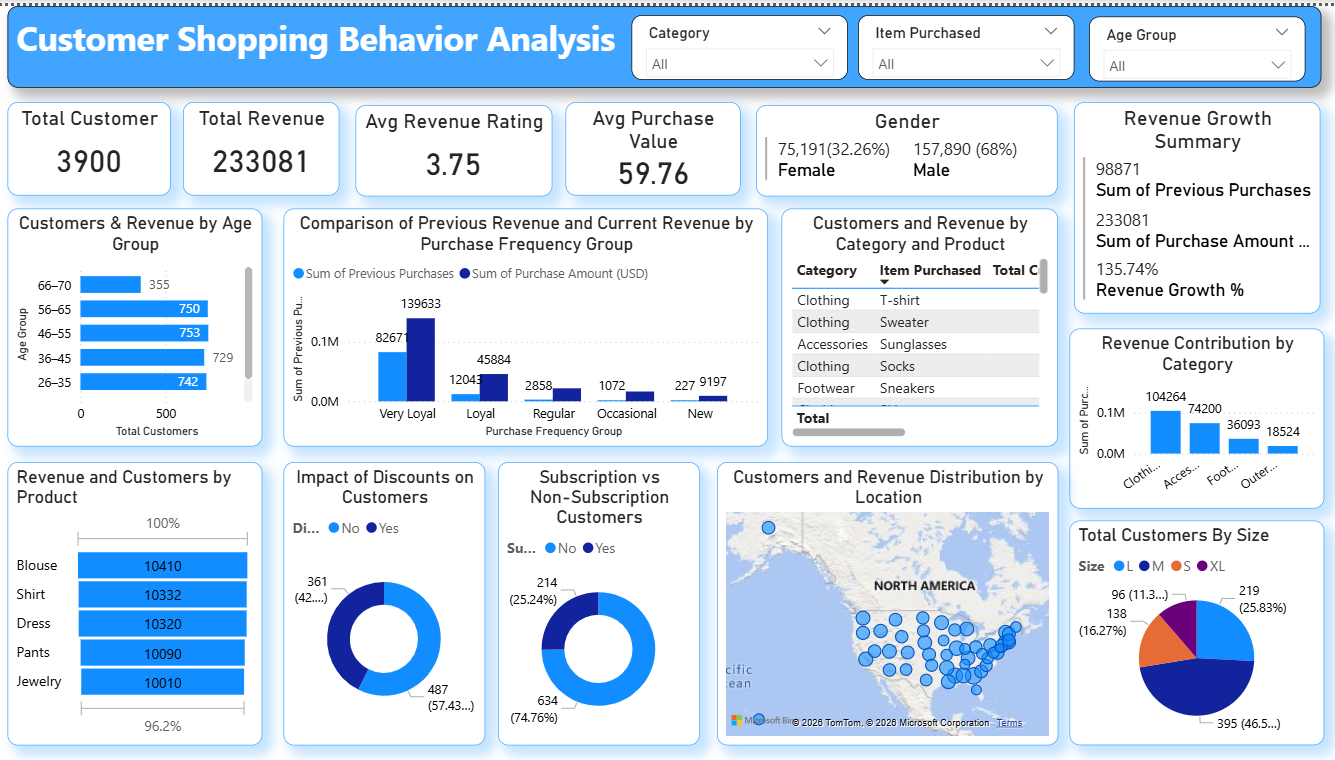

This screenshot's page, from the dashboard's own definition file:
{"tool":"powerbi","page":{"name":"Page 1","canvas":[1280,720],"ordinal":0},"visuals":[{"type":"textbox","box":[9.5,0,1255,77.9],"z":0},{"type":"card","title":"Total Customer","fields":{"Values":["customer_shopping_behavior.Total Customers"]},"box":[9.5,92.3,155.9,89.1],"z":1000},{"type":"card","title":"Total Revenue","fields":{"Values":["Sum(customer_shopping_behavior.Purchase Amount (USD))"]},"box":[178.1,92.3,149.5,89.1],"z":2000},{"type":"card","title":"Avg Revenue Rating","fields":{"Values":["customer_shopping_behavior.Avg Review Rating"]},"box":[342,93.8,187.7,87.5],"z":3000},{"type":"card","title":"Avg Purchase Value","fields":{"Values":["customer_shopping_behavior.Average Purchase Value"]},"box":[542.4,92.3,167,89.1],"z":4000},{"type":"multiRowCard","title":"Gender","fields":{"Values":["customer_shopping_behavior.Female","customer_shopping_behavior.Male"]},"box":[725.3,93.8,287.9,87.5],"z":5000},{"type":"multiRowCard","title":"Revenue Growth Summary","fields":{"Values":["Sum(customer_shopping_behavior.Previous Purchases)","Sum(customer_shopping_behavior.Purchase Amount (USD))","customer_shopping_behavior.Revenue Growth %"]},"box":[1029.1,92.3,235.4,202],"z":6000},{"type":"barChart","title":"Customers & Revenue by Age Group","fields":{"Category":["customer_shopping_behavior.Age Group"],"Y":["customer_shopping_behavior.Total Customers"]},"box":[9.5,194.1,243.4,227.5],"z":7000},{"type":"clusteredColumnChart","title":"Comparison of Previous Revenue and Current Revenue by Purchase Frequency Group","fields":{"Category":["customer_shopping_behavior.Purchase Frequency Group"],"Y":["Sum(customer_shopping_behavior.Previous Purchases)","Sum(customer_shopping_behavior.Purchase Amount (USD))"]},"box":[273.6,194.1,462.9,227.5],"z":8000},{"type":"tableEx","title":"Customers and Revenue by Category and Product","fields":{"Values":["customer_shopping_behavior.Category","customer_shopping_behavior.Item Purchased","customer_shopping_behavior.Total Customers","Sum(customer_shopping_behavior.Purchase Amount (USD))"]},"box":[749.2,194.1,264,227.5],"z":9000},{"type":"columnChart","title":"Revenue Contribution by Category","fields":{"Category":["customer_shopping_behavior.Category"],"Y":["Sum(customer_shopping_behavior.Purchase Amount (USD))"]},"box":[1024.4,308.6,243.4,171.8],"z":10000},{"type":"funnel","title":"Revenue and Customers by Product","fields":{"Category":["customer_shopping_behavior.Item Purchased"],"Y":["Sum(customer_shopping_behavior.Purchase Amount (USD))"]},"box":[9.5,435.8,243.4,270.4],"z":11000},{"type":"donutChart","title":"Impact of Discounts on Customers","fields":{"Y":["customer_shopping_behavior.Total Customers"],"Category":["customer_shopping_behavior.Discount Applied"]},"box":[273.6,435.8,192.5,270.4],"z":12000},{"type":"donutChart","title":"Subscription vs Non-Subscription Customers","fields":{"Category":["customer_shopping_behavior.Subscription Status"],"Y":["customer_shopping_behavior.Total Customers"]},"box":[478.8,435.8,192.5,270.4],"z":13000},{"type":"map","title":"Customers and Revenue Distribution by Location","fields":{"Size":["Sum(customer_shopping_behavior.Purchase Amount (USD))"],"Category":["customer_shopping_behavior.Location"]},"box":[687.1,435.8,326.1,270.4],"z":14000},{"type":"pieChart","title":"Total Customers By Size","fields":{"Series":["customer_shopping_behavior.Size"],"Y":["customer_shopping_behavior.Total Customers"]},"box":[1024.4,491.5,243.4,214.7],"z":15000},{"type":"slicer","fields":{"Values":["customer_shopping_behavior.Category"]},"box":[606,8,206.8,62],"z":16000},{"type":"slicer","fields":{"Values":["customer_shopping_behavior.Item Purchased"]},"box":[822.3,8,206.8,62],"z":17000},{"type":"slicer","fields":{"Values":["customer_shopping_behavior.Age Group"]},"box":[1043.4,9.5,206.8,62],"z":18000}]}

Visuals, with their boxes in screenshot pixels (x1, y1, x2, y2), scaled from the page's 1280x720 canvas onto the 1335x760 screenshot:
textbox: l=10, t=0, r=1319, b=82
"Total Customer" card: l=10, t=97, r=173, b=191
"Total Revenue" card: l=186, t=97, r=342, b=191
"Avg Revenue Rating" card: l=357, t=99, r=552, b=191
"Avg Purchase Value" card: l=566, t=97, r=740, b=191
"Gender" multiRowCard: l=756, t=99, r=1057, b=191
"Revenue Growth Summary" multiRowCard: l=1073, t=97, r=1319, b=311
"Customers & Revenue by Age Group" barChart: l=10, t=205, r=264, b=445
"Comparison of Previous Revenue and Current Revenue by Purchase Frequency Group" clusteredColumnChart: l=285, t=205, r=768, b=445
"Customers and Revenue by Category and Product" tableEx: l=781, t=205, r=1057, b=445
"Revenue Contribution by Category" columnChart: l=1068, t=326, r=1322, b=507
"Revenue and Customers by Product" funnel: l=10, t=460, r=264, b=745
"Impact of Discounts on Customers" donutChart: l=285, t=460, r=486, b=745
"Subscription vs Non-Subscription Customers" donutChart: l=499, t=460, r=700, b=745
"Customers and Revenue Distribution by Location" map: l=717, t=460, r=1057, b=745
"Total Customers By Size" pieChart: l=1068, t=519, r=1322, b=745
slicer - customer_shopping_behavior.Category: l=632, t=8, r=848, b=74
slicer - customer_shopping_behavior.Item Purchased: l=858, t=8, r=1073, b=74
slicer - customer_shopping_behavior.Age Group: l=1088, t=10, r=1304, b=75
